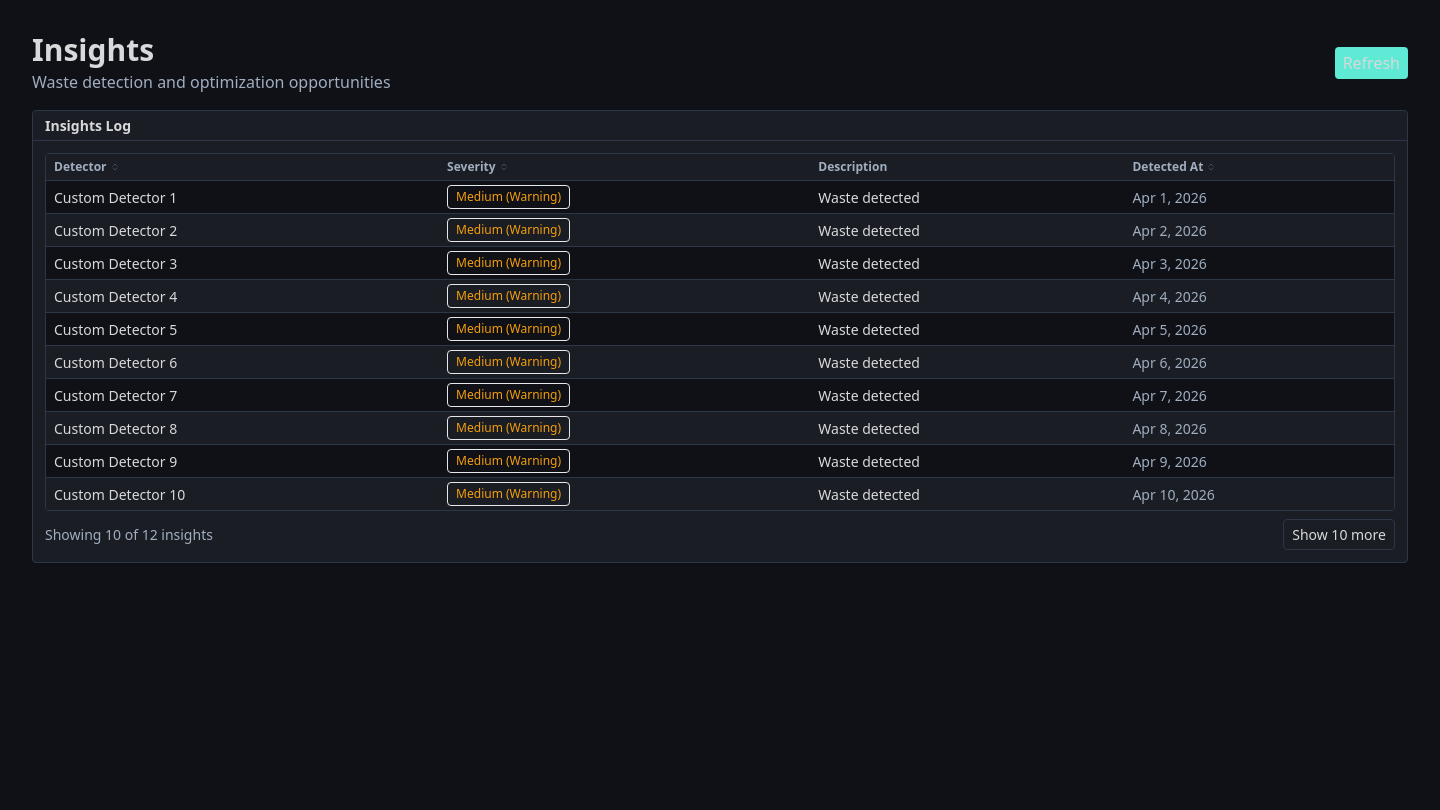
it: Insights Page › shows insights 10 at a time with a load-more control
Expected: the text "Showing 10 of 12 insights" is shown, top-left (45, 524), bottom-right (213, 545)
Expected: the text "Custom Detector 10" is shown, top-left (46, 478), bottom-right (439, 510)
Click the button "Show 10 more".
click(1339, 534)  # box top-left (1283, 519), bottom-right (1395, 550)
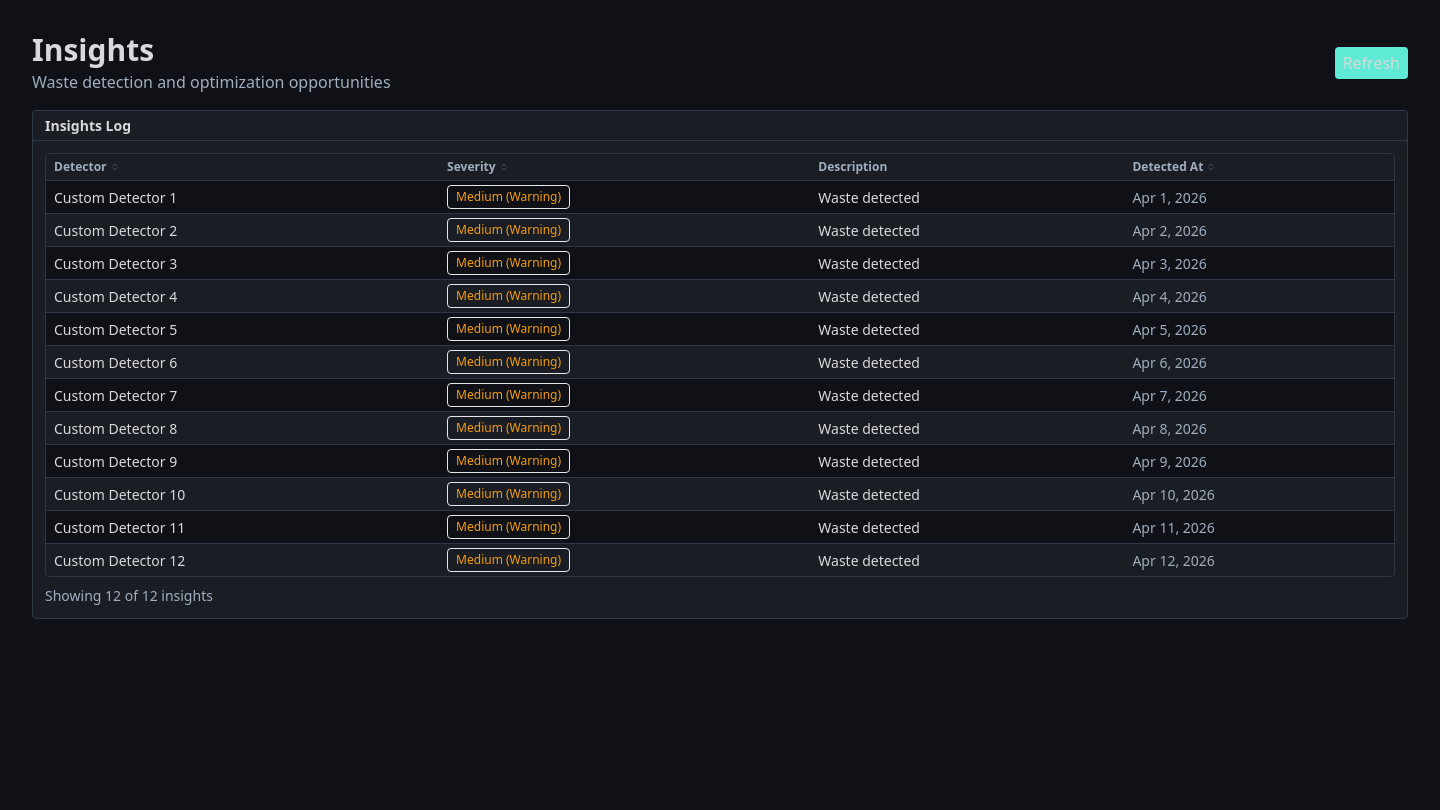
Expected: the text "Showing 12 of 12 insights" is shown, top-left (45, 585), bottom-right (213, 606)
Expected: the text "Custom Detector 11" is shown, top-left (46, 510), bottom-right (439, 544)
Expected: the text "Custom Detector 12" is shown, top-left (46, 544), bottom-right (439, 576)
